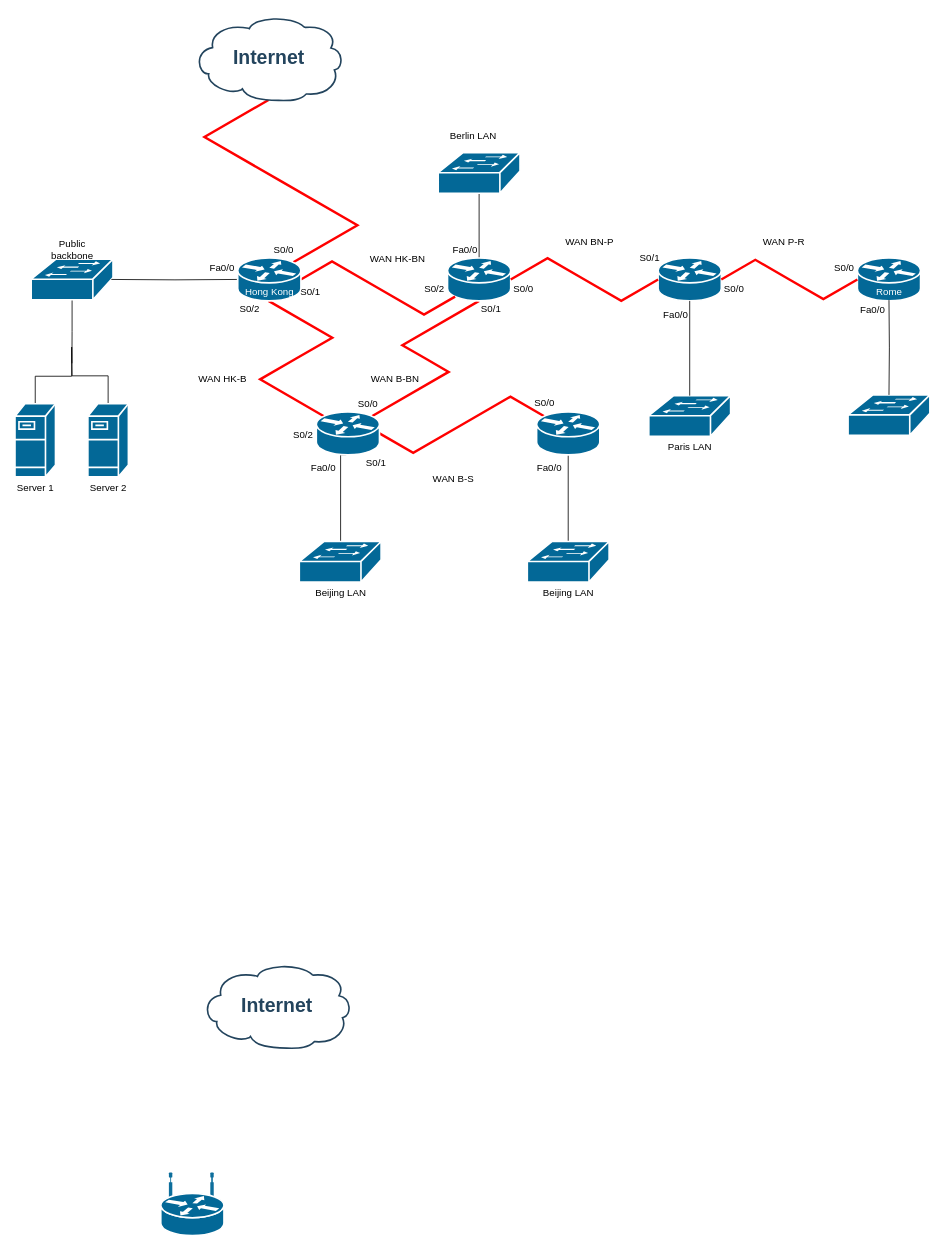
Some shapes in this 944 by 1250 pixel diagram are drawn without their labels. The centre of each missing label's shape, as x and y in pixels:
"Beijing" goes at [347,433].
"Berlin" goes at [478,279].
"Paris" goes at [689,279].
"Rome LAN" goes at [888,415].
"Shanghai" goes at [567,433].
